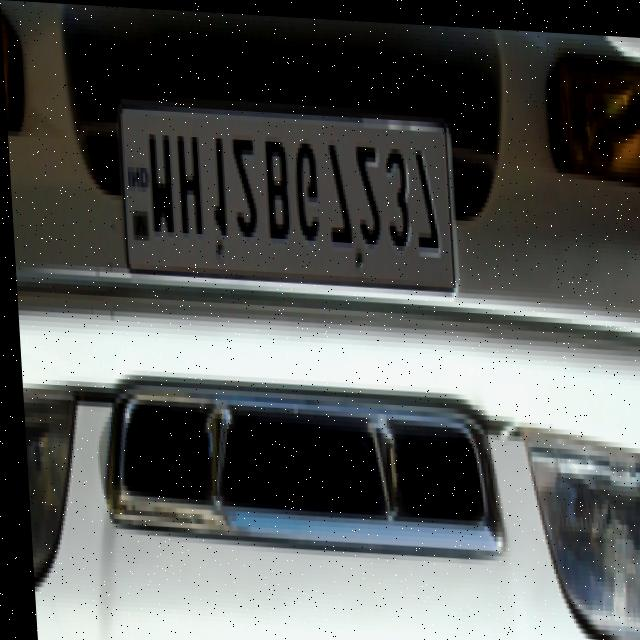plate: (118, 105, 455, 285)
